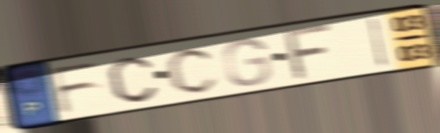C: (165, 45, 222, 96), (106, 54, 160, 104)
F: (47, 58, 104, 117), (284, 22, 336, 83)
G: (221, 36, 274, 88)
I: (368, 14, 390, 69)
